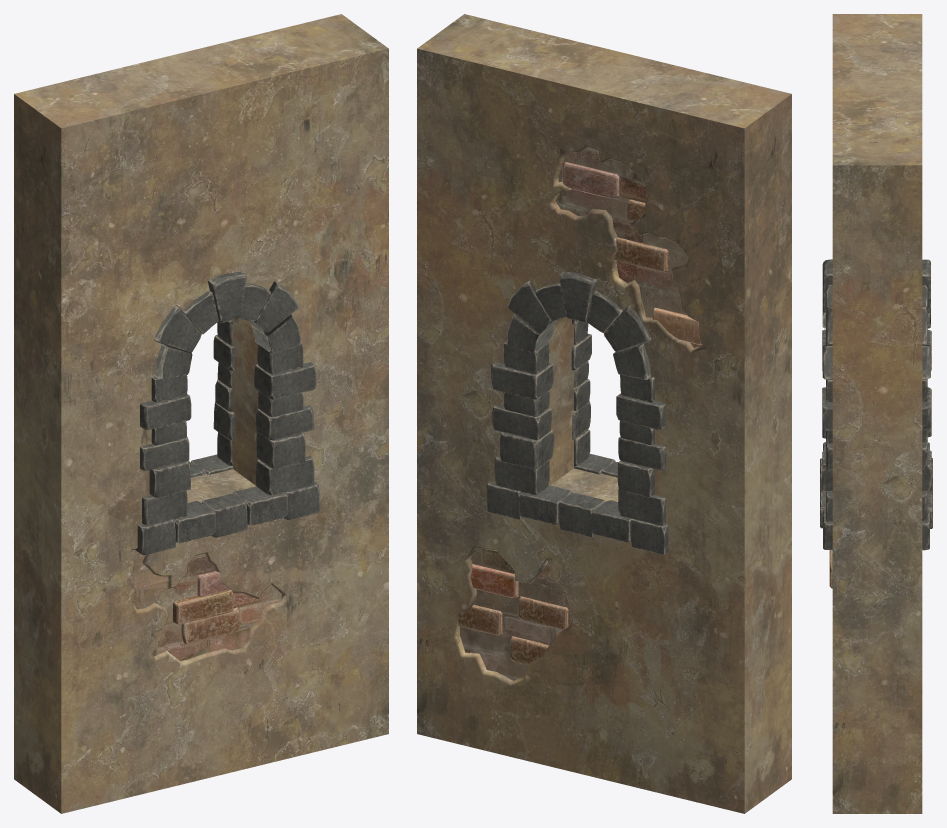
3 views of the same model, side by side, from view 1: azimuth 30°, elevation 25°; view 2: azimuth 150°, elevation 25°; view 3: azimuth 270°, elevation 25° (orthographic). The views are drawn at different scales.
Visible parts, largest first — view 1: SM_Human_Ruins_Window_02_LOD0; view 2: SM_Human_Ruins_Window_02_LOD0; view 3: SM_Human_Ruins_Window_02_LOD0.
Boxes of the visible parts, x1,y1,x2,y2 form: SM_Human_Ruins_Window_02_LOD0: (14, 14, 388, 813); SM_Human_Ruins_Window_02_LOD0: (417, 14, 791, 813); SM_Human_Ruins_Window_02_LOD0: (820, 14, 932, 813).
Bounding box in the file's own units: 2 × 4 × 0.6303.
Materials: 4 (4 with a texture image).
